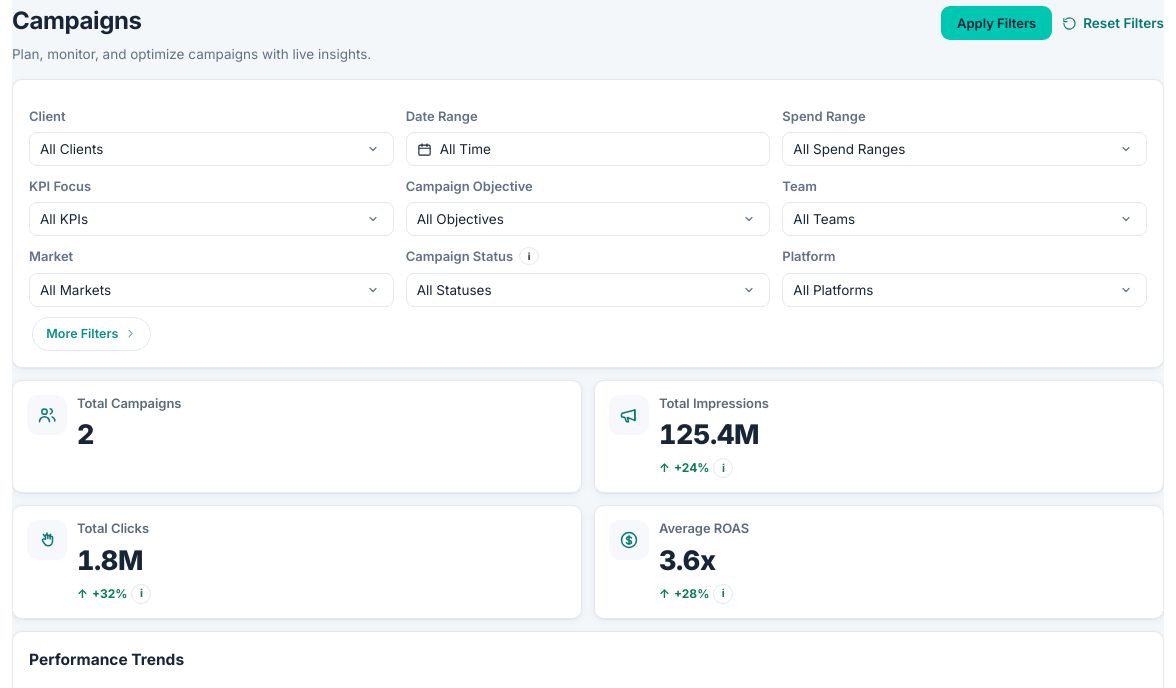
Test: CampaignsPage › keeps a short Campaign Status label with an info explainer
Expected: the dropdown labelled "Campaign Status" is shown, [406,272,770,306]
Expected: the text "Activity-derived status" is not shown
Click the button named "How Campaign Status Is Determined" at {"x": 529, "y": 256}, box [519,248,539,266]
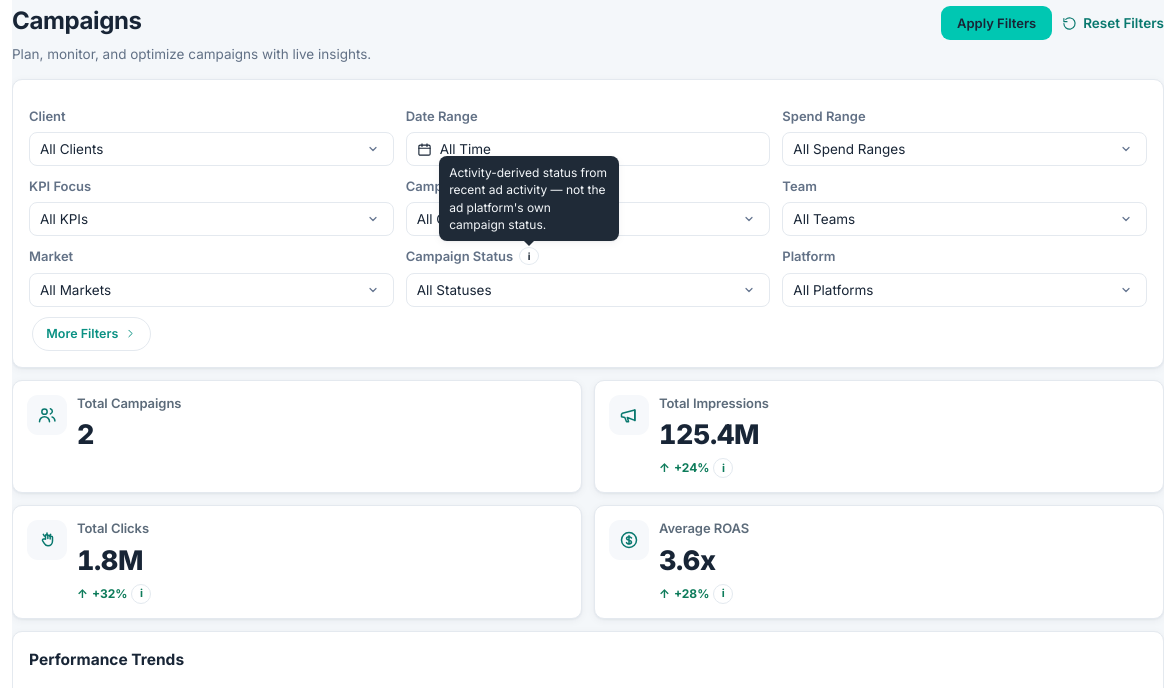
Expected: the text "Activity-derived status" is shown, [449,165,607,232]
Press Escape
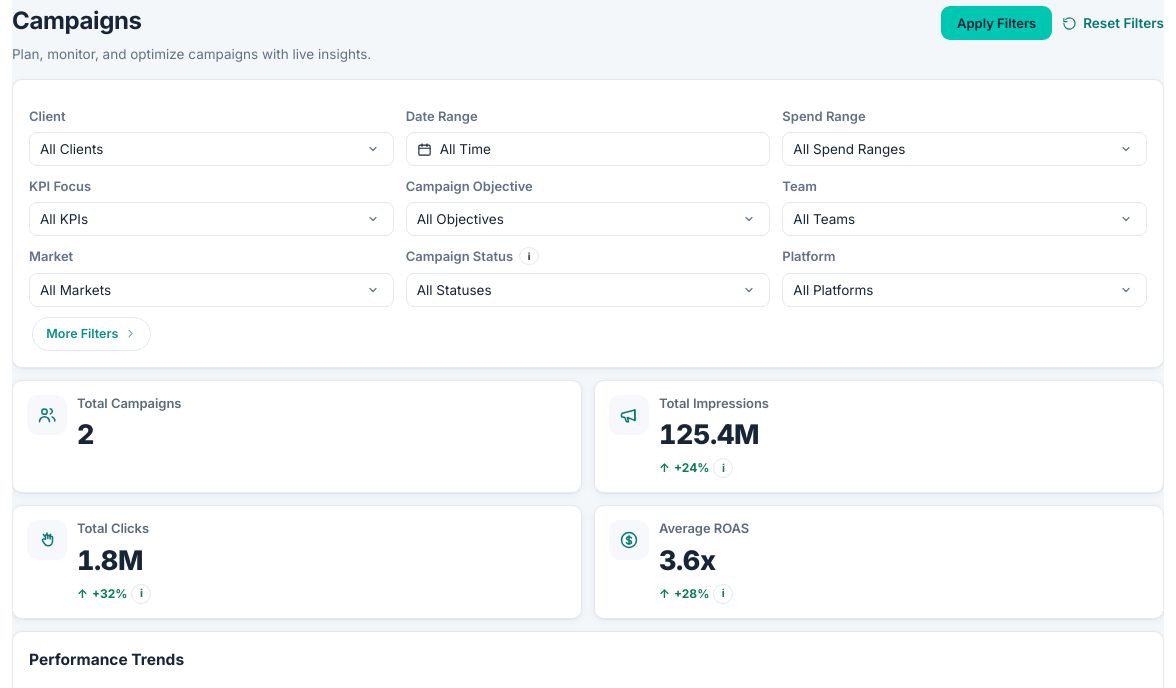
Expected: the text "Activity-derived status" is gone
